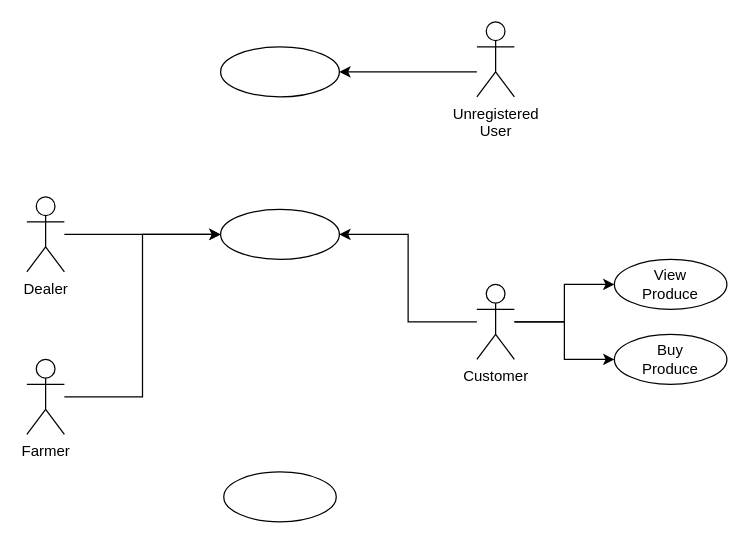
Some shapes in this 749 by 544 pixel diagram are drawn without their labels. Each missing label, with the centre of its shape:
"Login" goes at pixel 279 233.
"Register" goes at pixel 279 71.
"Sell Produce" goes at pixel 279 496.
